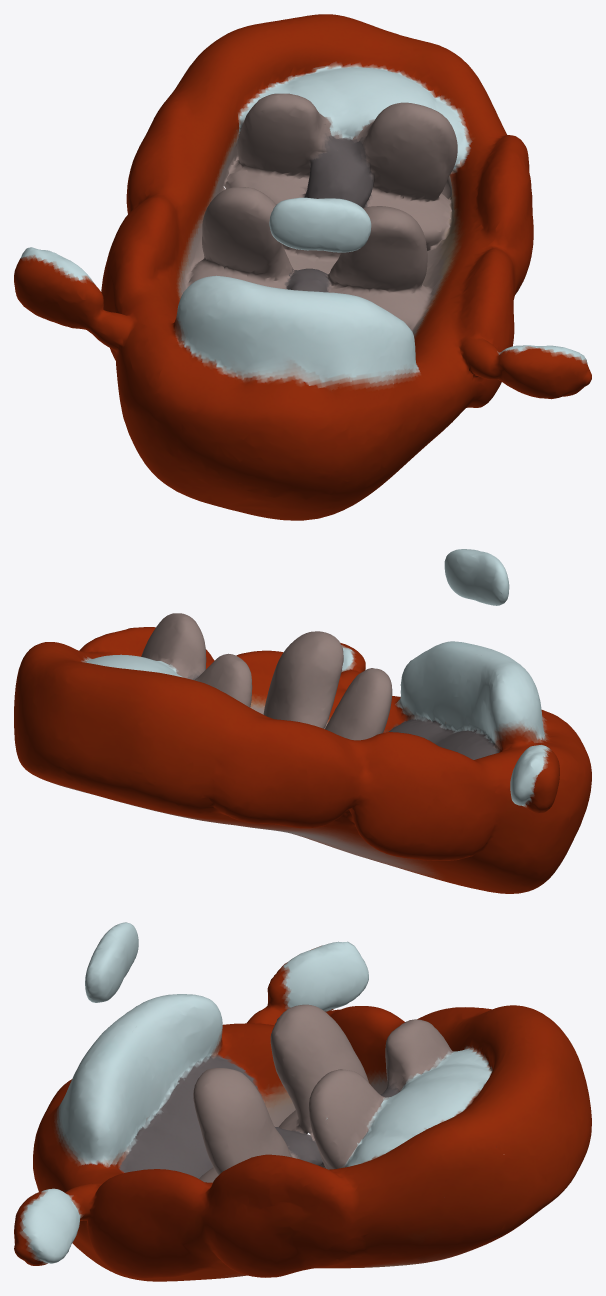
File: car.gltf
The picture shows the model from 3 angles, top to bottom: view 1: azimuth 30°, elevation 25°; view 2: azimuth 150°, elevation 25°; view 3: azimuth 270°, elevation 25°; orthographic projection. The views are drawn at different scales.
Parts seen in each view (by area): view 1: car; view 2: car; view 3: car.
Part boxes in pixels (box(x1,y1,x2,y2)): car: box(14, 14, 591, 520); car: box(14, 549, 591, 893); car: box(14, 922, 591, 1281).
Size of the model in its own units: 182 by 112 by 175.
1 material, 1 textured.
